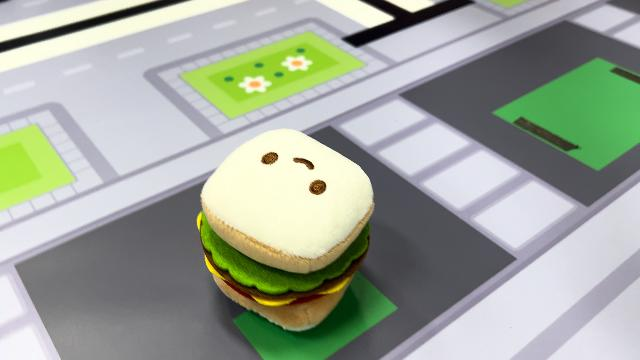sandwich: (194, 126, 376, 332)
